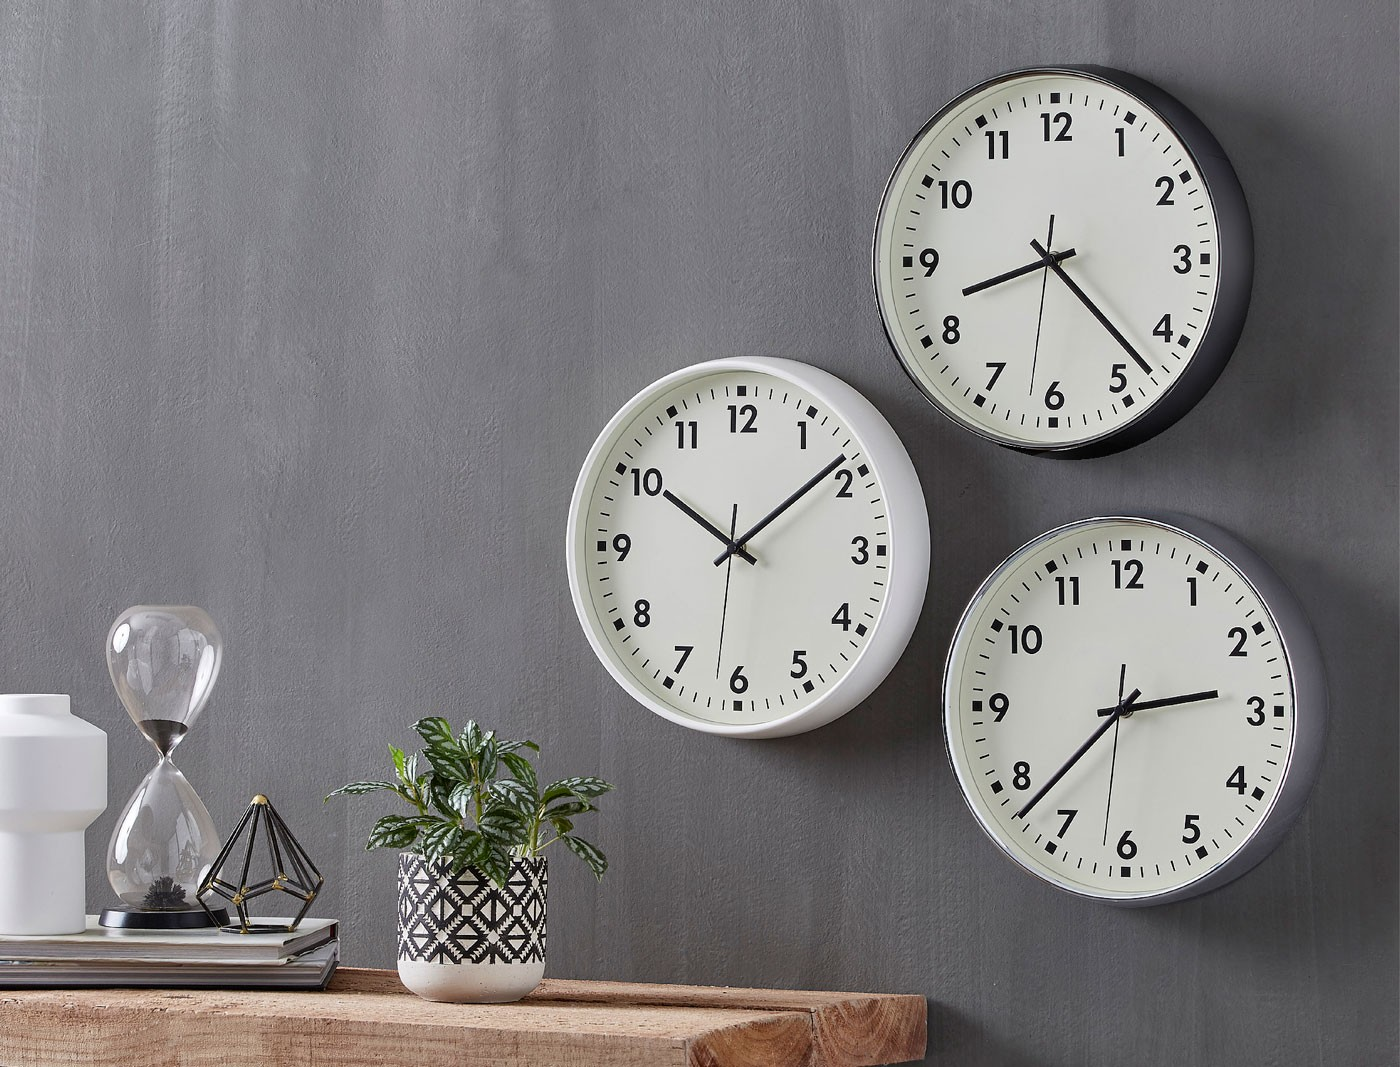clock: (883, 78, 1218, 447), (964, 528, 1290, 894), (581, 373, 881, 725)
